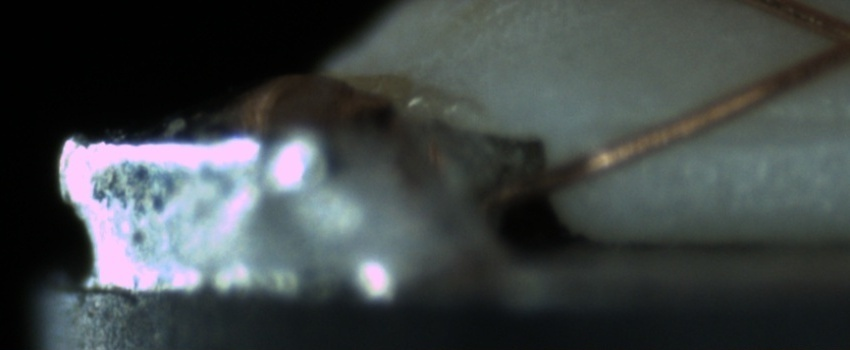CL: (800, 8, 850, 78)
DL: (690, 91, 850, 161)
